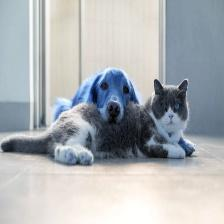kedo: (7, 79, 194, 165)
